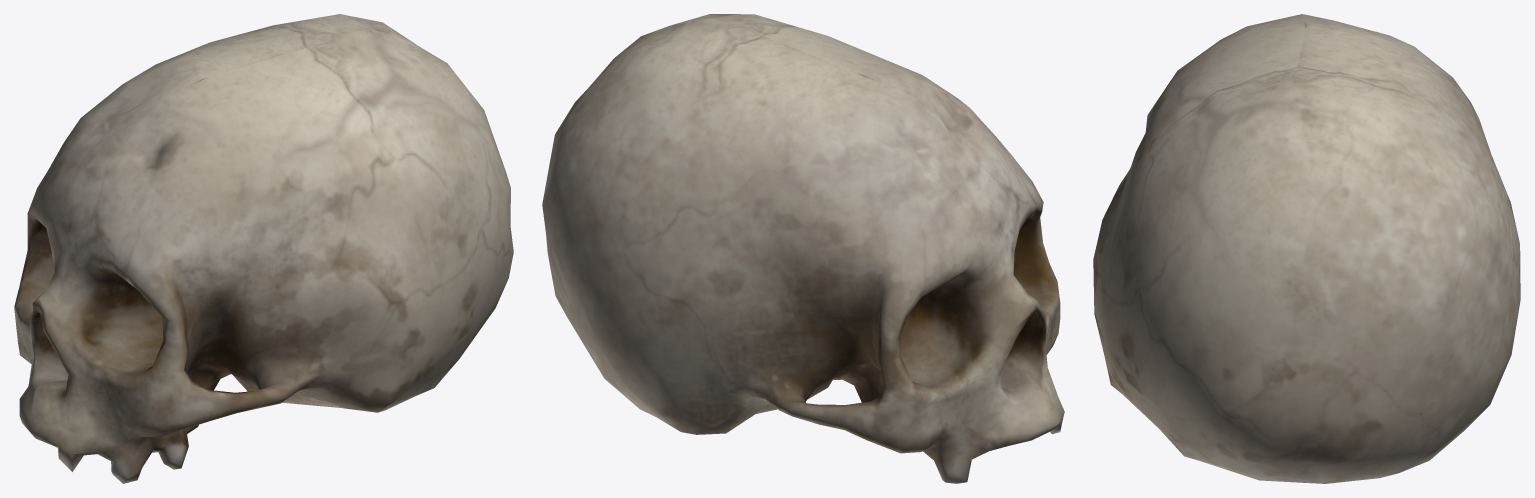
File: SM_Bone03.fbx
The picture shows the model from 3 angles, left to right: view 1: azimuth 30°, elevation 25°; view 2: azimuth 150°, elevation 25°; view 3: azimuth 270°, elevation 25°; orthographic projection. The views are drawn at different scales.
Parts seen in each view (by area): view 1: SM_Bone03_LOD0; view 2: SM_Bone03_LOD0; view 3: SM_Bone03_LOD0.
Part boxes in pixels (left/top/right/bottom): SM_Bone03_LOD0: left=14, top=14, right=513, bottom=483; SM_Bone03_LOD0: left=542, top=14, right=1064, bottom=483; SM_Bone03_LOD0: left=1093, top=14, right=1520, bottom=483.
Size of the model in its own units: 28.02 by 20.29 by 20.4.
